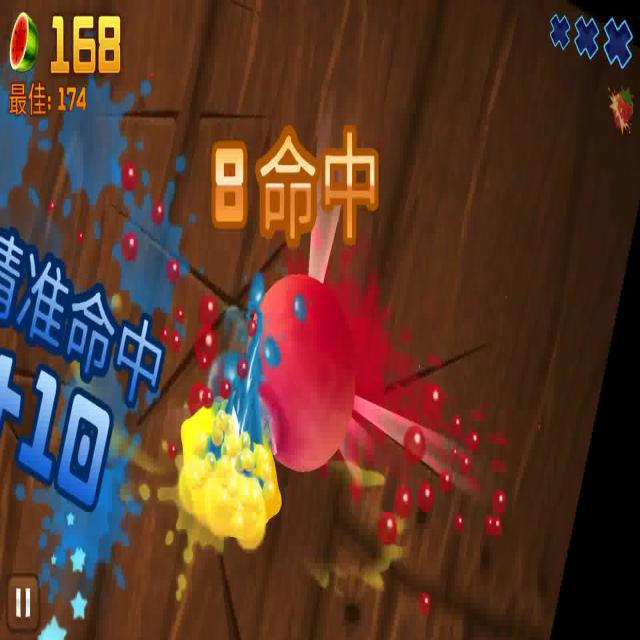fruit: (244, 274, 355, 481)
